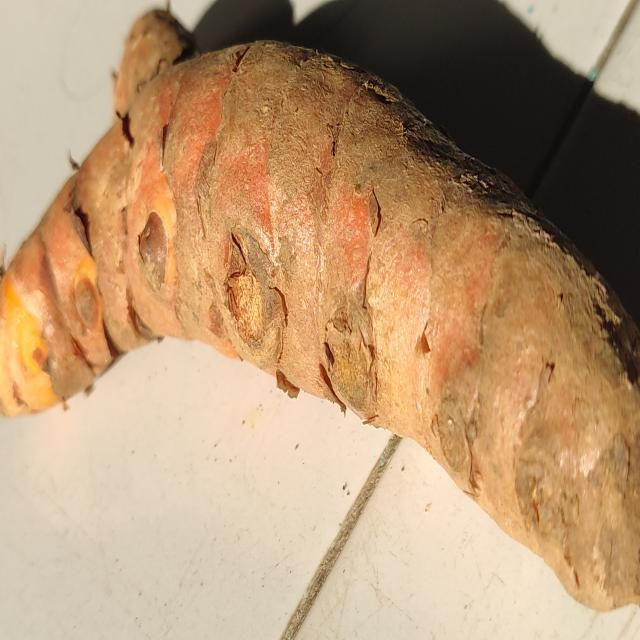ginger: (6, 31, 640, 593)
